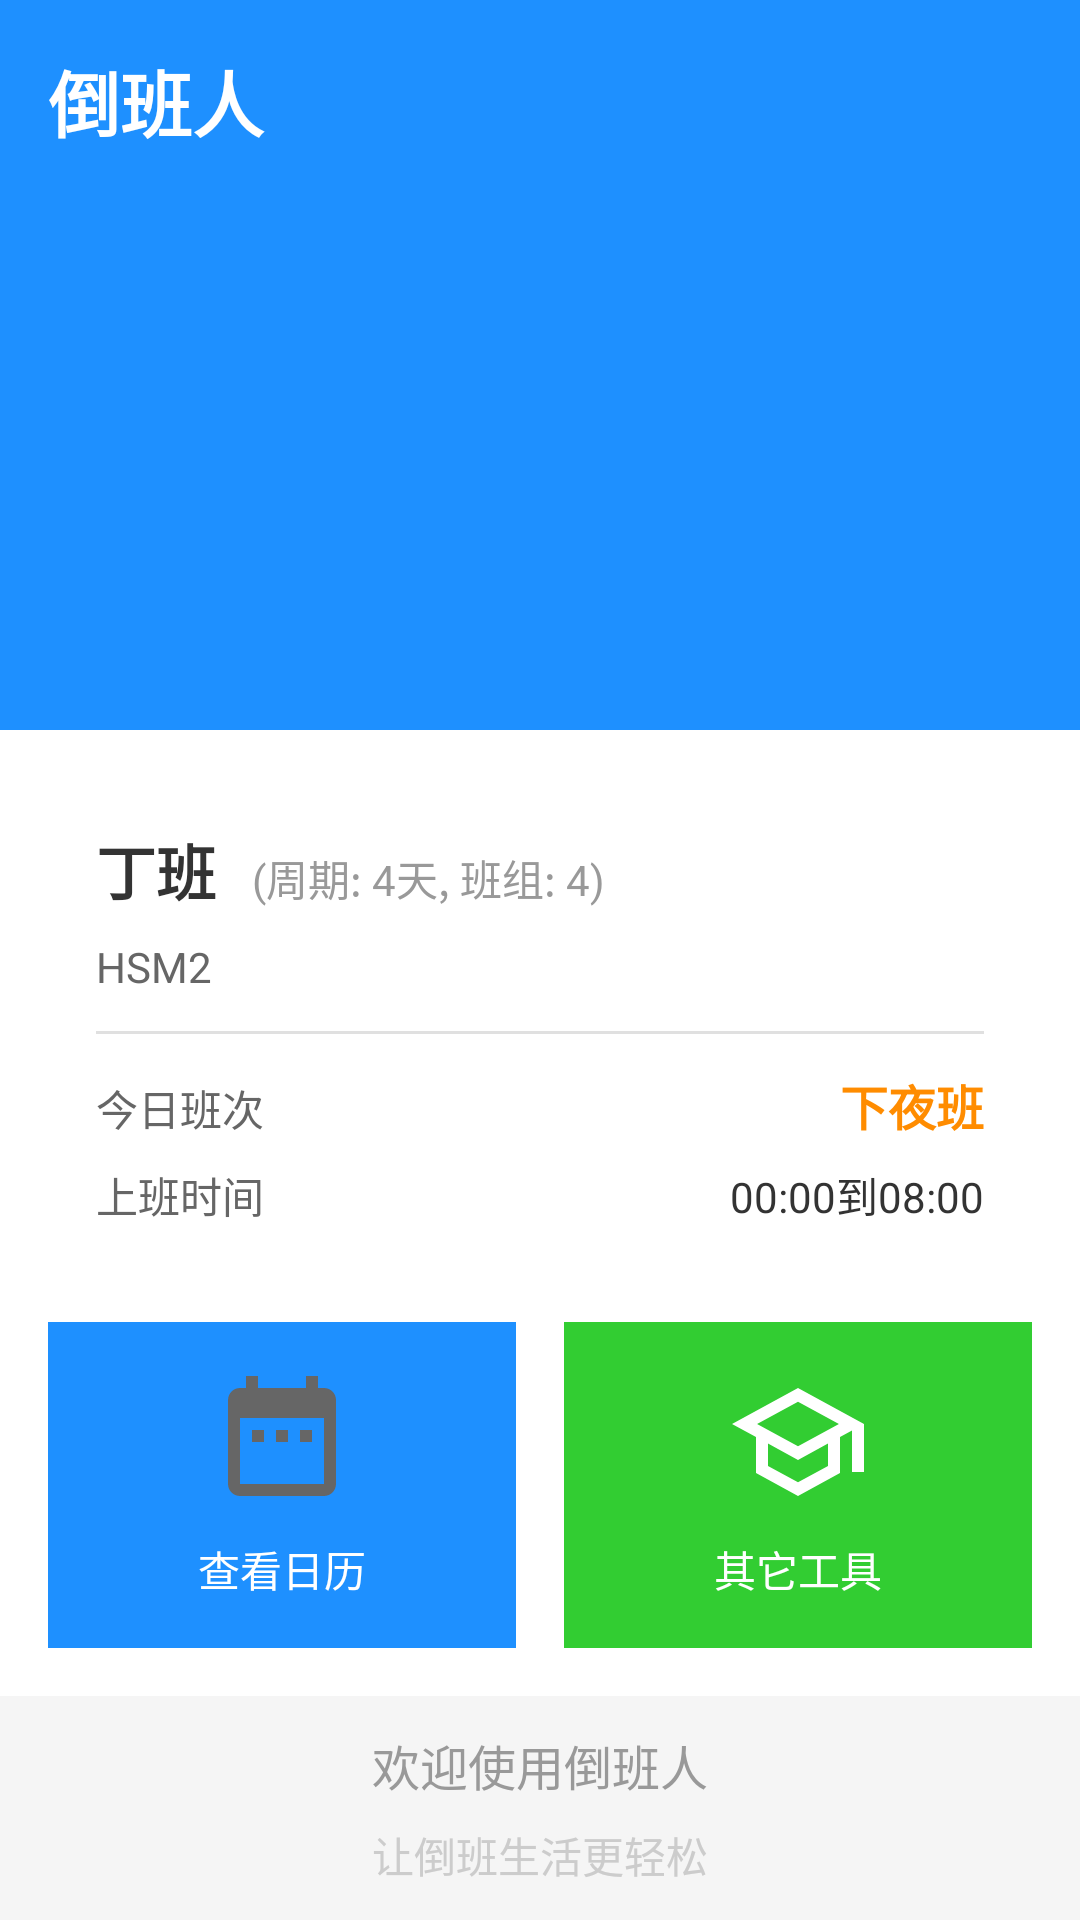

Icons on this 1080 x 1920 Android screen, each with the point to tap as (x,y):
calendar: (282,1436)
